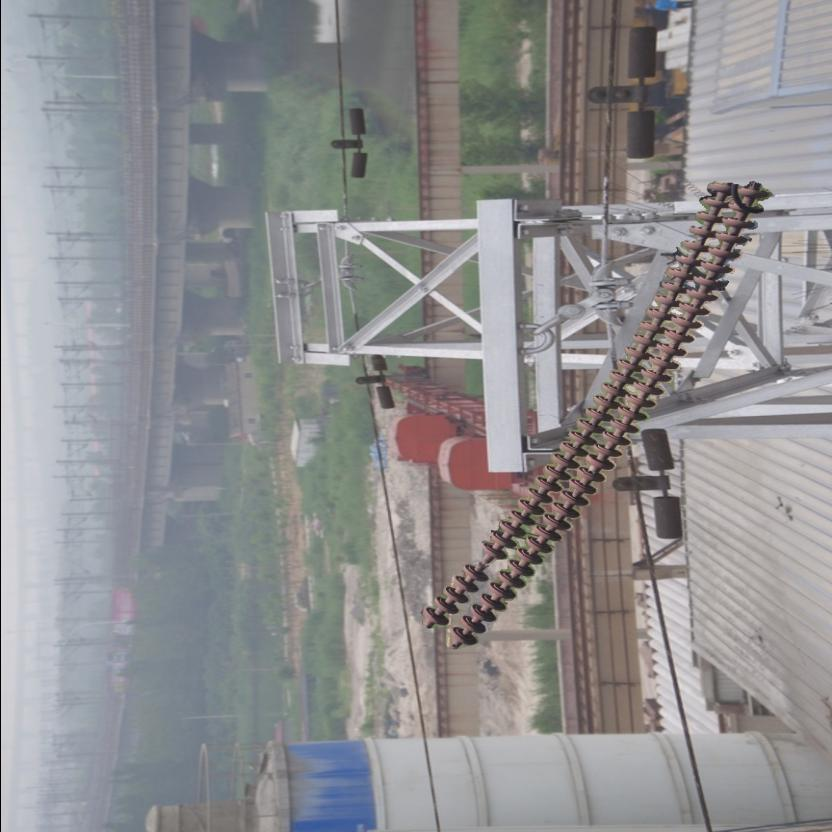defect: (453, 542, 506, 580)
